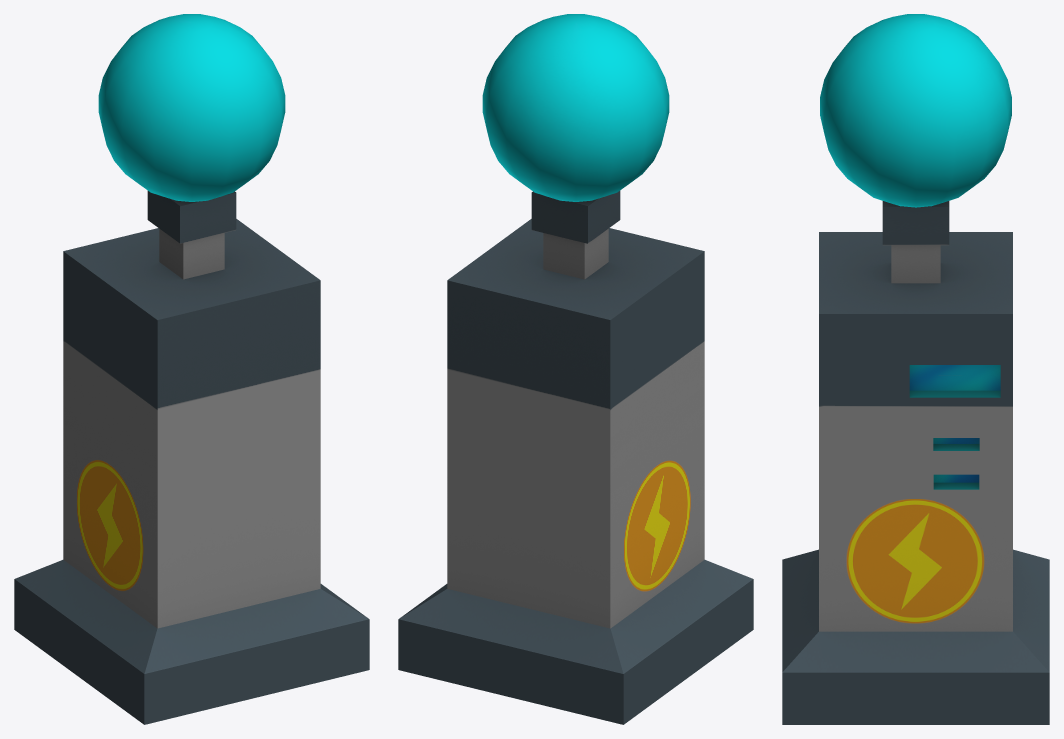
File: Electrode.fbx
3 renders of one model, left to right at view 1: azimuth 30°, elevation 25°; view 2: azimuth 150°, elevation 25°; view 3: azimuth 270°, elevation 25°, orthographic. The views are drawn at different scales.
Visible parts, largest first — view 1: Electrode1; view 2: Electrode1; view 3: Electrode1.
Boxes of the visible parts, x1,y1,x2,y2 form: Electrode1: (14, 14, 369, 724); Electrode1: (398, 14, 753, 724); Electrode1: (782, 14, 1049, 724).
Size of the model in its own units: 41.37 by 110 by 41.37.
Materials: 1 (1 with a texture image).
